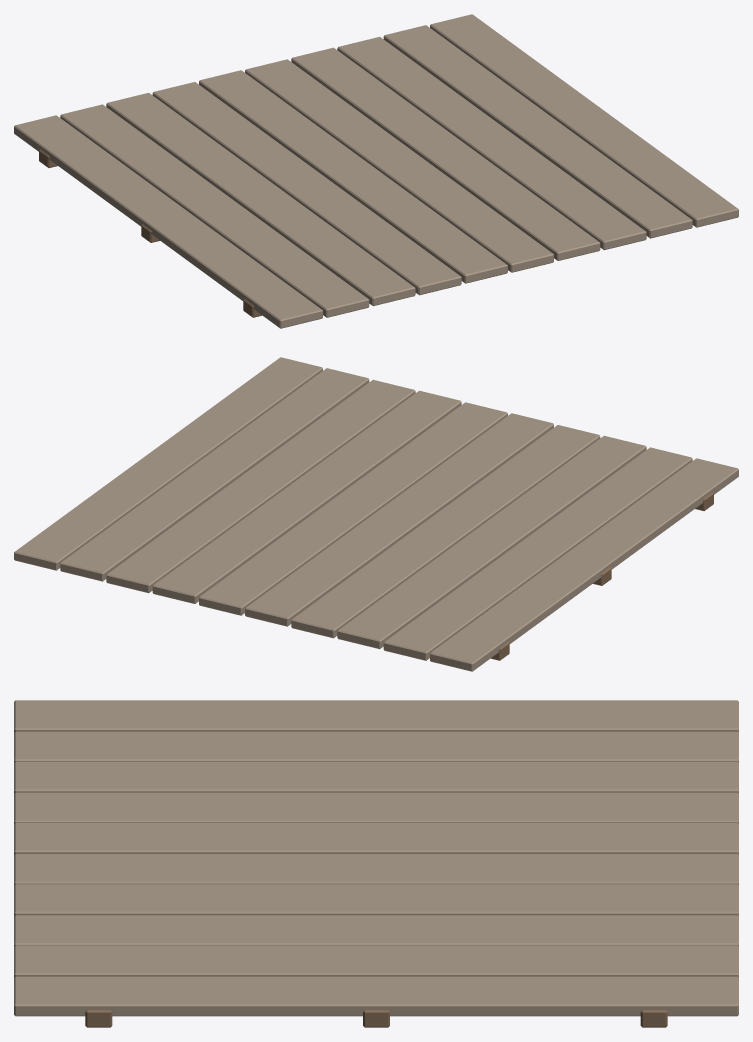
File: floor_plank_bay.glb
3 renders of one model, top to bottom at view 1: azimuth 30°, elevation 25°; view 2: azimuth 150°, elevation 25°; view 3: azimuth 270°, elevation 25°, orthographic. The views are drawn at different scales.
Visible parts, largest first — view 1: floor_plank_bay; view 2: floor_plank_bay; view 3: floor_plank_bay.
Part boxes in pixels (x1=…): floor_plank_bay: x1=14, y1=14, x2=738, y2=328; floor_plank_bay: x1=14, y1=357, x2=738, y2=671; floor_plank_bay: x1=14, y1=700, x2=738, y2=1027.
Size of the model in its own units: 3.76 by 0.133 by 3.76.
